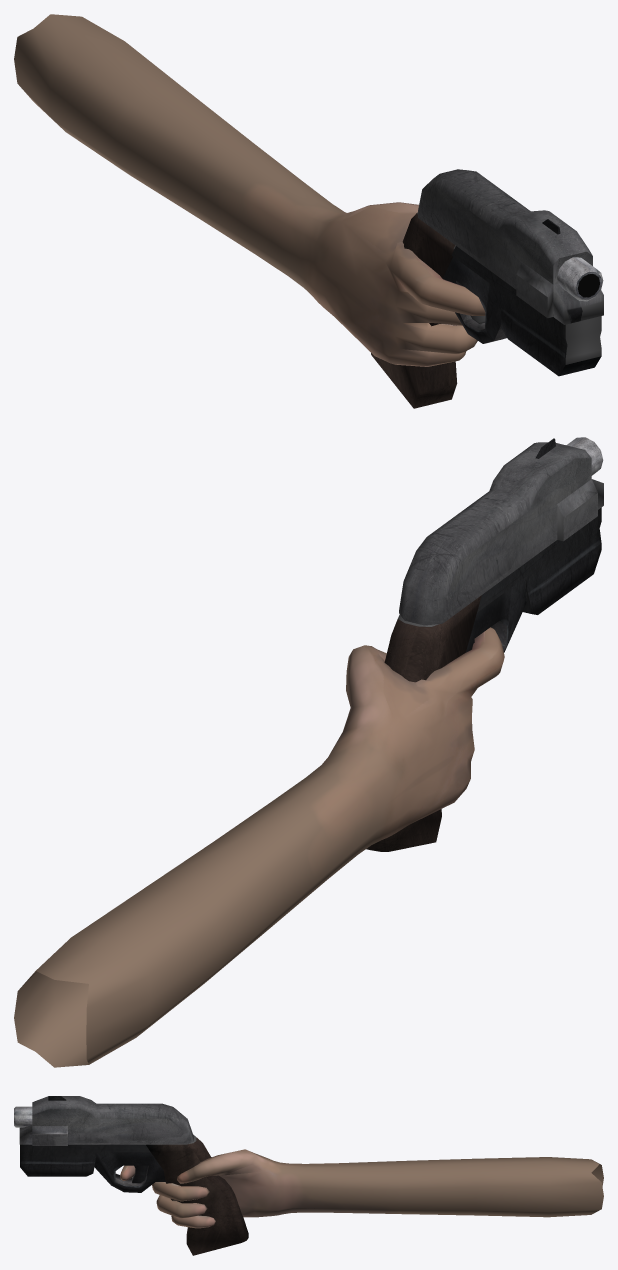
The model's file is pistol_wHand.fbx.
3 views of the same model, one above another, from view 1: azimuth 30°, elevation 25°; view 2: azimuth 150°, elevation 25°; view 3: azimuth 270°, elevation 25° (orthographic). The views are drawn at different scales.
Visible parts, largest first — view 1: hand, Pistol; view 2: hand, Pistol; view 3: hand, Pistol.
Boxes of the visible parts, x1,y1,x2,y2 form: hand: (14,14,485,366); Pistol: (371,169,603,408); hand: (14,627,504,1067); Pistol: (366,437,603,851); hand: (120,1149,603,1228); Pistol: (14,1096,248,1255).
Bounding box in the file's own units: 163 × 349 × 1211.
2 materials, 2 textured.
